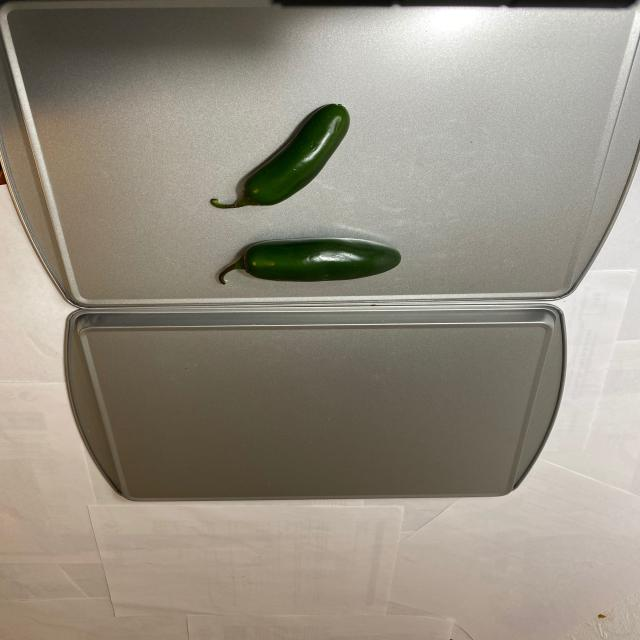chilli: (199, 101, 405, 282)
